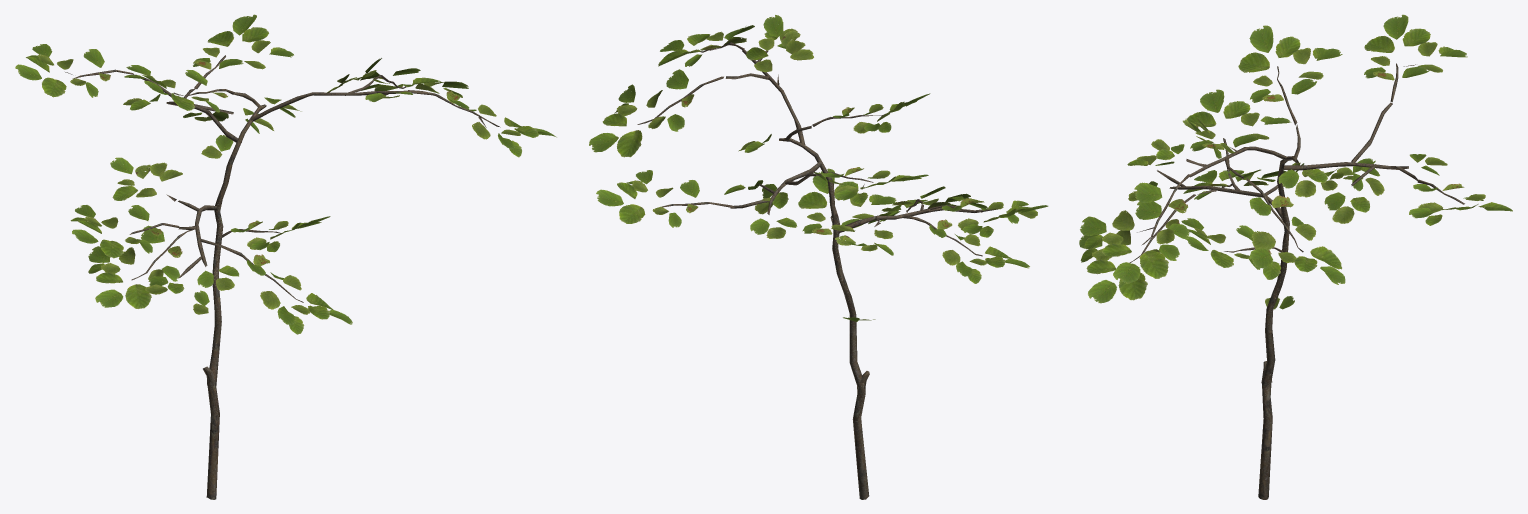
File: SM_BlackAlder_Sapling_02.gltf
The picture shows the model from 3 angles, left to right: view 1: azimuth 30°, elevation 25°; view 2: azimuth 150°, elevation 25°; view 3: azimuth 270°, elevation 25°; orthographic projection. The views are drawn at different scales.
Parts seen in each view (by area): view 1: SM_BlackAlder_Sapling_02; view 2: SM_BlackAlder_Sapling_02; view 3: SM_BlackAlder_Sapling_02.
Part boxes in pixels (box(x1,y1,x2,y2)): SM_BlackAlder_Sapling_02: box(15, 14, 556, 499); SM_BlackAlder_Sapling_02: box(589, 15, 1048, 499); SM_BlackAlder_Sapling_02: box(1079, 14, 1512, 499).
Bounding box in the file's own units: 1.68 × 1.59 × 1.41.
1 material, 1 textured.
